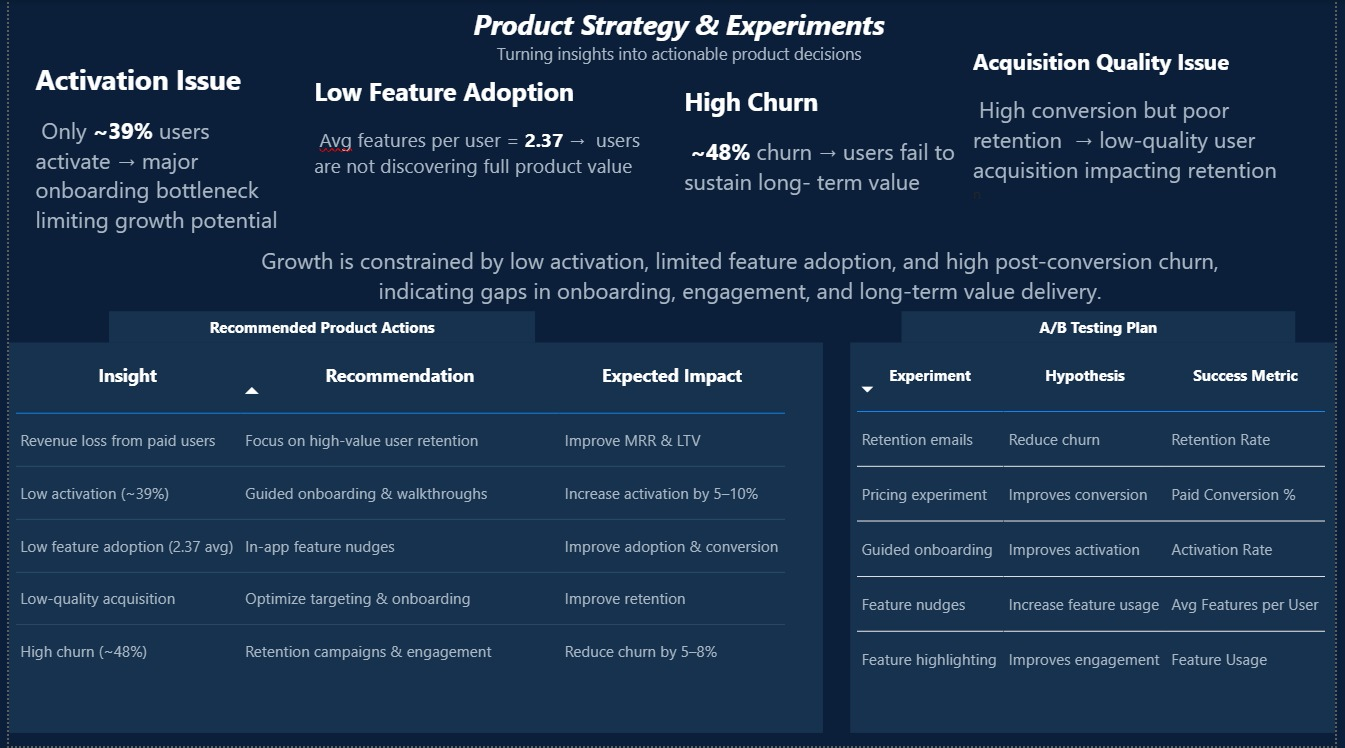

The page's visual inventory and layout, read from the dashboard file:
{"tool":"powerbi","page":{"name":"Page 5","canvas":[1280,720],"ordinal":4},"visuals":[{"type":"textbox","box":[247,0,798.6,79.6],"z":0},{"type":"textbox","box":[20.6,53.5,253.9,178.4],"z":1},{"type":"textbox","box":[289.5,67.6,349.9,142.4],"z":2},{"type":"textbox","box":[646.3,76.8,278.6,141.3],"z":3},{"type":"textbox","box":[924.9,39.8,306,178.4],"z":4},{"type":"textbox","box":[197.6,231.9,1015.4,68.6],"z":5},{"type":"tableEx","fields":{"Values":["Product_Recommendations.Insight","Product_Recommendations.Recommendation","Product_Recommendations.Expected Impact"]},"box":[0,330.6,785.4,376.4],"z":6},{"type":"tableEx","fields":{"Values":["AB_Testing.Experiment","AB_Testing.Hypothesis","AB_Testing.Success Metric"]},"box":[816.8,330.6,463.3,376.4],"z":8},{"type":"textbox","box":[861.4,300.4,380,30.2],"z":9},{"type":"textbox","box":[96.5,300.4,411.4,30.2],"z":10}]}

Visuals, with their boxes in screenshot pixels (x1, y1, x2, y2), scaled from the page's 1280x720 canvas onto the 1345x748 screenshot:
textbox: bbox=(260, 0, 1099, 83)
textbox: bbox=(22, 56, 288, 241)
textbox: bbox=(304, 70, 672, 218)
textbox: bbox=(679, 80, 972, 227)
textbox: bbox=(972, 41, 1293, 227)
textbox: bbox=(208, 241, 1275, 312)
tableEx - Product_Recommendations.Insight x Product_Recommendations.Recommendation: bbox=(0, 343, 825, 734)
tableEx - AB_Testing.Experiment x AB_Testing.Hypothesis: bbox=(858, 343, 1344, 734)
textbox: bbox=(905, 312, 1304, 343)
textbox: bbox=(101, 312, 534, 343)
